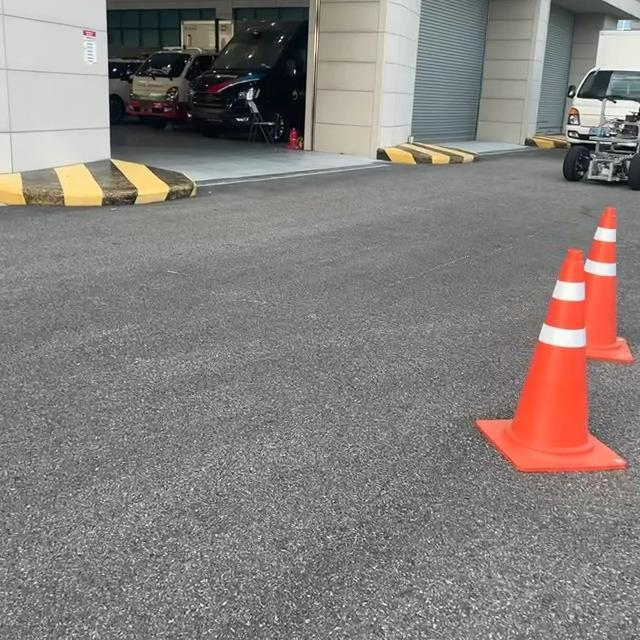fallen_object: (457, 253, 619, 568), (554, 191, 640, 388)
